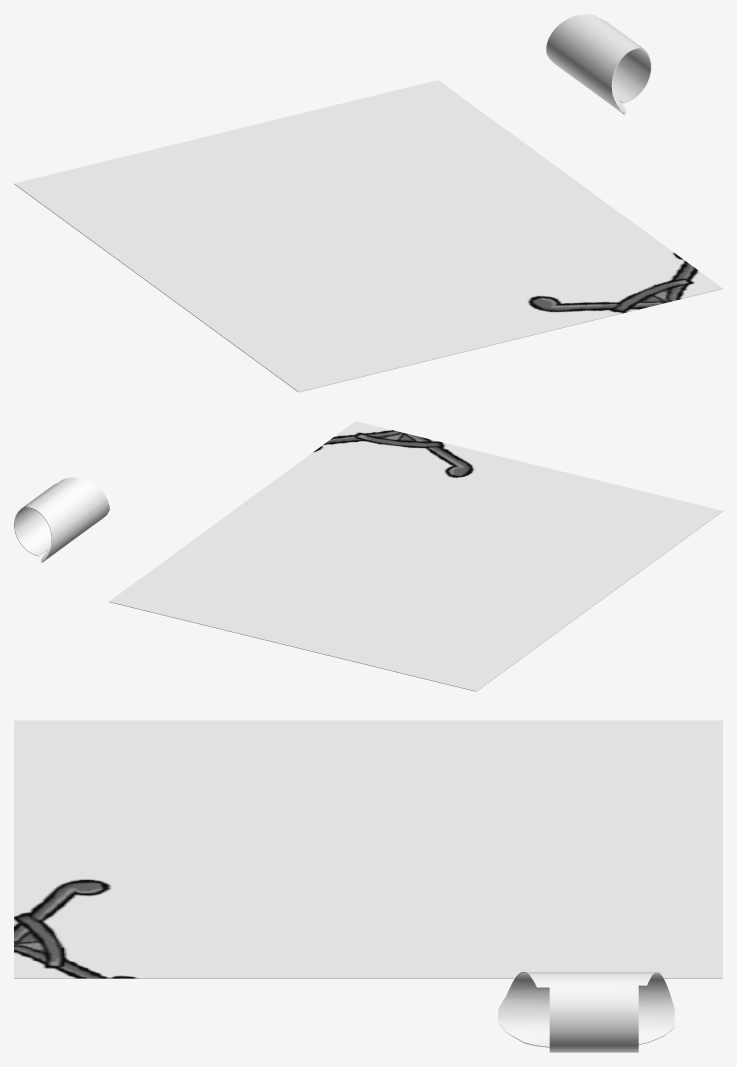
3 views of the same model, one above another, from view 1: azimuth 30°, elevation 25°; view 2: azimuth 150°, elevation 25°; view 3: azimuth 270°, elevation 25° (orthographic). The views are drawn at different scales.
Visible parts, largest first — view 1: pot, Blend; view 2: pot, Blend; view 3: pot, Blend.
Part boxes in pixels (x1=…): pot: x1=14, y1=80, x2=722, y2=392; Blend: x1=546, y1=14, x2=651, y2=114; pot: x1=109, y1=421, x2=722, y2=691; Blend: x1=14, y1=477, x2=109, y2=562; pot: x1=14, y1=720, x2=722, y2=978; Blend: x1=498, y1=972, x2=674, y2=1052.
Size of what is drawn, in the model's own units: 964 by 95.46 by 837.
